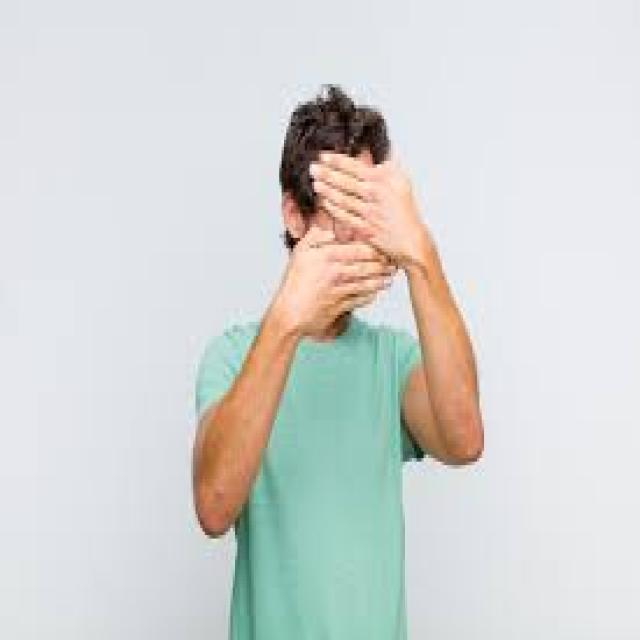7_mano_rostro: (282, 152, 387, 391)
